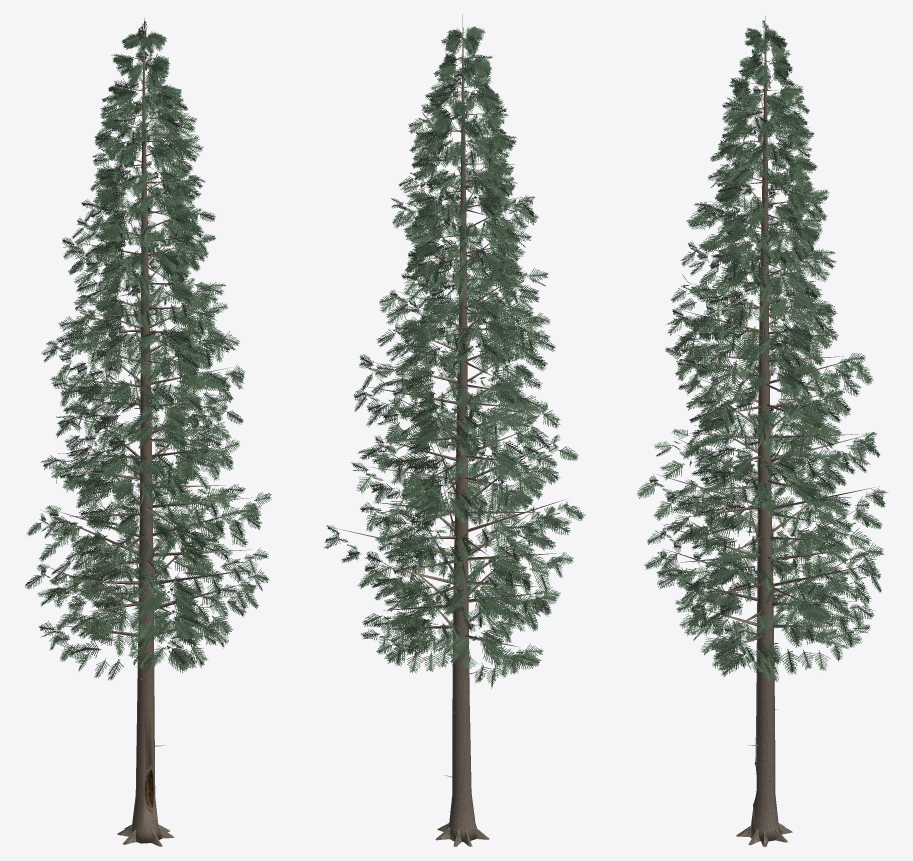
Rendered from SS_Defect_Cavity_PostMature_02_LOD2.fbx.
The picture shows the model from 3 angles, left to right: view 1: azimuth 30°, elevation 25°; view 2: azimuth 150°, elevation 25°; view 3: azimuth 270°, elevation 25°; orthographic projection.
Parts seen in each view (by area): view 1: SS_Defect_Cavity_PostMature_02_LOD2_Foliage, SS_Defect_Cavity_PostMature_02_LOD2_Trunk, SS_Defect_Cavity_PostMature_02_LOD2_Branches; view 2: SS_Defect_Cavity_PostMature_02_LOD2_Foliage, SS_Defect_Cavity_PostMature_02_LOD2_Trunk, SS_Defect_Cavity_PostMature_02_LOD2_Branches; view 3: SS_Defect_Cavity_PostMature_02_LOD2_Foliage, SS_Defect_Cavity_PostMature_02_LOD2_Trunk, SS_Defect_Cavity_PostMature_02_LOD2_Branches.
Part boxes in pixels (x1,y1,x2,y2): SS_Defect_Cavity_PostMature_02_LOD2_Foliage: [25, 21, 271, 680]; SS_Defect_Cavity_PostMature_02_LOD2_Trunk: [117, 18, 173, 846]; SS_Defect_Cavity_PostMature_02_LOD2_Branches: [42, 33, 256, 746]; SS_Defect_Cavity_PostMature_02_LOD2_Foliage: [323, 26, 585, 688]; SS_Defect_Cavity_PostMature_02_LOD2_Trunk: [435, 14, 489, 846]; SS_Defect_Cavity_PostMature_02_LOD2_Branches: [336, 33, 566, 811]; SS_Defect_Cavity_PostMature_02_LOD2_Foliage: [636, 20, 888, 681]; SS_Defect_Cavity_PostMature_02_LOD2_Trunk: [736, 16, 792, 846]; SS_Defect_Cavity_PostMature_02_LOD2_Branches: [656, 33, 874, 815].
Bounding box in the file's own units: 891 × 3100 × 939.
Materials: 3 (3 with a texture image).
